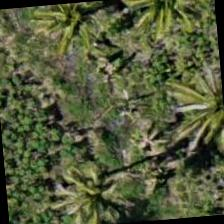Kelapa_Sawit: (30, 143, 129, 223), (23, 0, 118, 63), (170, 57, 223, 153), (113, 0, 208, 47)
